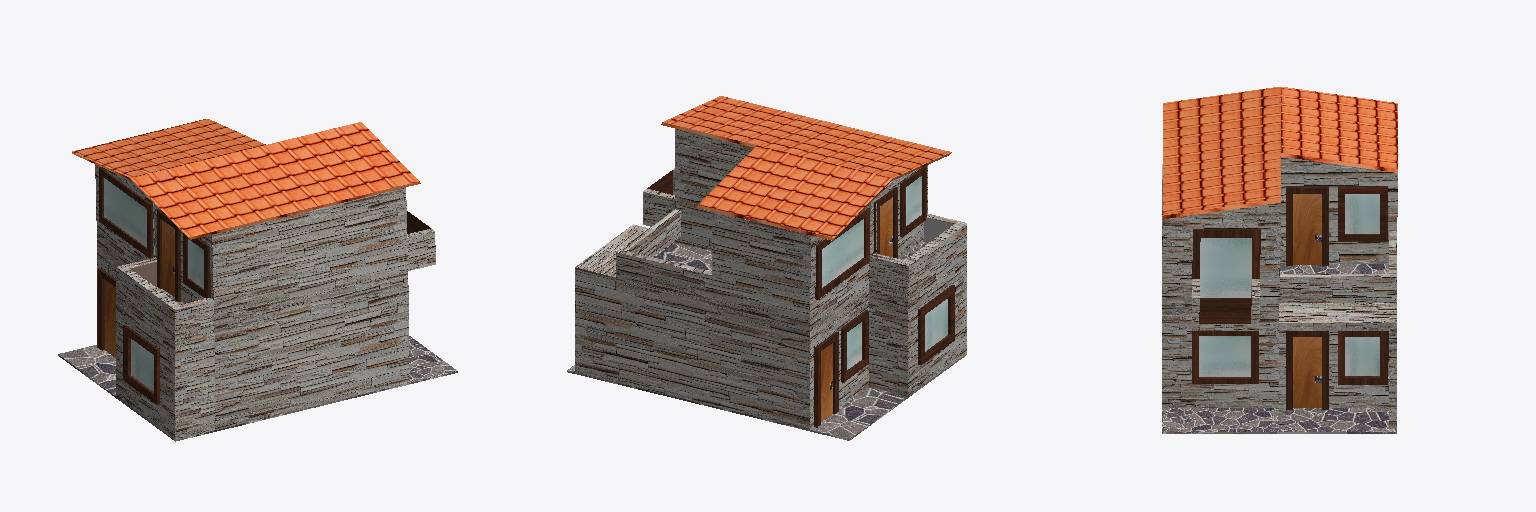
3 views of the same model, side by side, from view 1: azimuth 30°, elevation 25°; view 2: azimuth 150°, elevation 25°; view 3: azimuth 270°, elevation 25° (orthographic).
Visible parts, largest first — view 1: Cube.002_Cube.008; view 2: Cube.002_Cube.008; view 3: Cube.002_Cube.008.
Boxes of the visible parts, x1,y1,x2,y2 form: Cube.002_Cube.008: [58, 119, 457, 441]; Cube.002_Cube.008: [567, 96, 966, 440]; Cube.002_Cube.008: [1162, 87, 1397, 433].
Size of the model in its own units: 569 by 412 by 409.
6 materials, 1 textured.